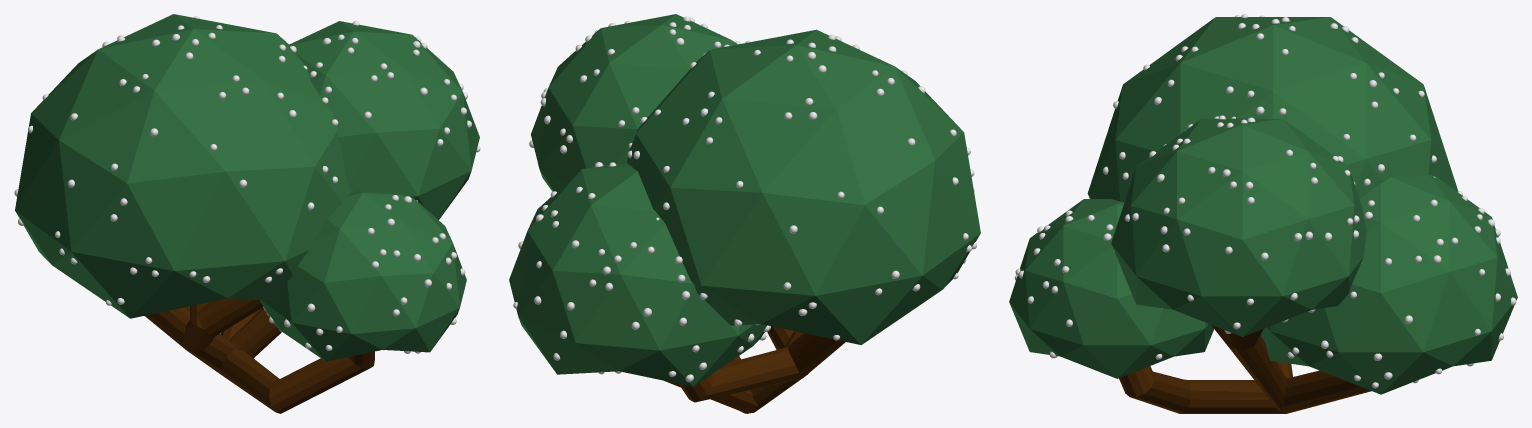
The model's file is berry_bush_variant1.fbx.
The picture shows the model from 3 angles, left to right: view 1: azimuth 30°, elevation 25°; view 2: azimuth 150°, elevation 25°; view 3: azimuth 270°, elevation 25°; orthographic projection. The views are drawn at different scales.
Visible parts, largest first — view 1: Icosphere.013, Icosphere.010, Icosphere.011, Vert.002; view 2: Icosphere.013, Icosphere.012, Icosphere.011, Vert.002; view 3: Icosphere.011, Icosphere.013, Icosphere.012, Icosphere.010, Vert.002.
Part boxes in pixels (x1,y1,x2,y2): Icosphere.013: (15, 14, 350, 318); Icosphere.010: (260, 190, 466, 361); Icosphere.011: (289, 21, 479, 219); Vert.002: (144, 298, 374, 413); Icosphere.013: (627, 29, 980, 344); Icosphere.012: (509, 163, 766, 386); Icosphere.011: (531, 14, 737, 191); Vert.002: (664, 326, 845, 413); Icosphere.011: (1111, 118, 1366, 336); Icosphere.013: (1087, 17, 1457, 201); Icosphere.012: (1260, 175, 1517, 394); Icosphere.010: (1009, 199, 1213, 378); Vert.002: (1119, 325, 1371, 413).
Bounding box in the file's own units: 75.13 × 63.76 × 80.28.
